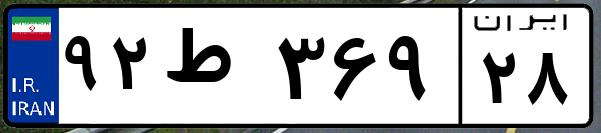2: (475, 38, 525, 113), (110, 28, 158, 98)
3: (270, 28, 330, 110)
6: (330, 28, 385, 110)
8: (525, 38, 570, 115)
9: (385, 28, 445, 110), (57, 26, 110, 100)
ط: (158, 20, 270, 120)
